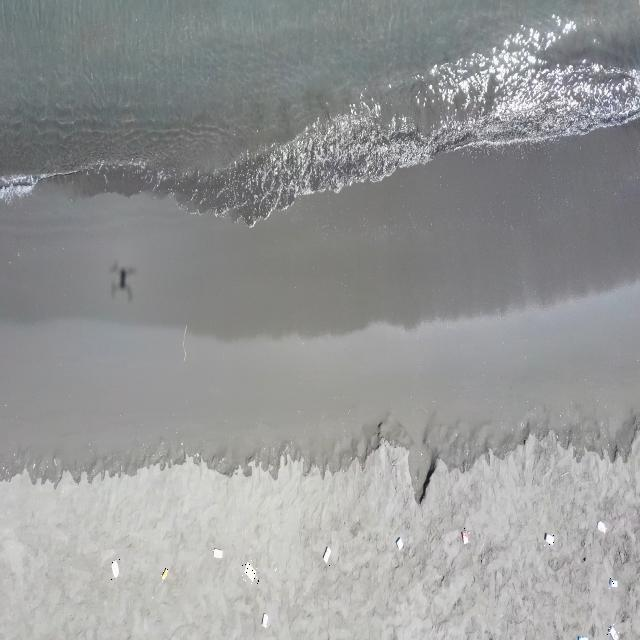Garbage: (244, 562, 256, 582), (111, 560, 119, 577), (608, 624, 617, 639), (596, 520, 606, 532), (544, 532, 553, 544), (460, 529, 467, 544), (395, 536, 403, 548), (323, 547, 329, 563), (160, 567, 167, 580), (213, 547, 223, 556), (261, 612, 267, 627), (608, 576, 616, 587), (576, 635, 587, 639)
